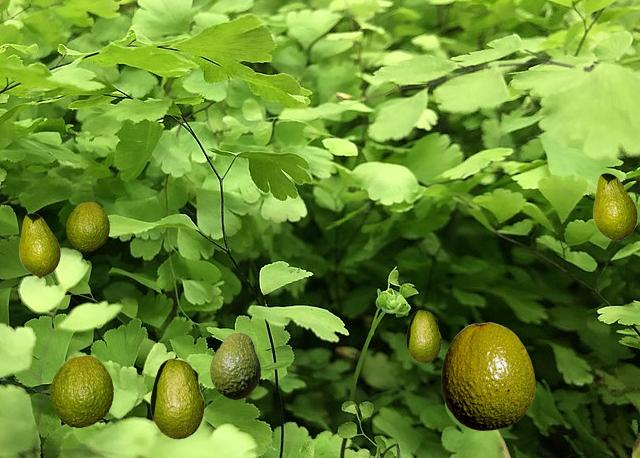avocado: (441, 322, 534, 429), (50, 355, 112, 426), (150, 358, 203, 438), (210, 332, 259, 398), (593, 173, 636, 239), (19, 213, 59, 275), (66, 202, 108, 250), (406, 310, 440, 362)
